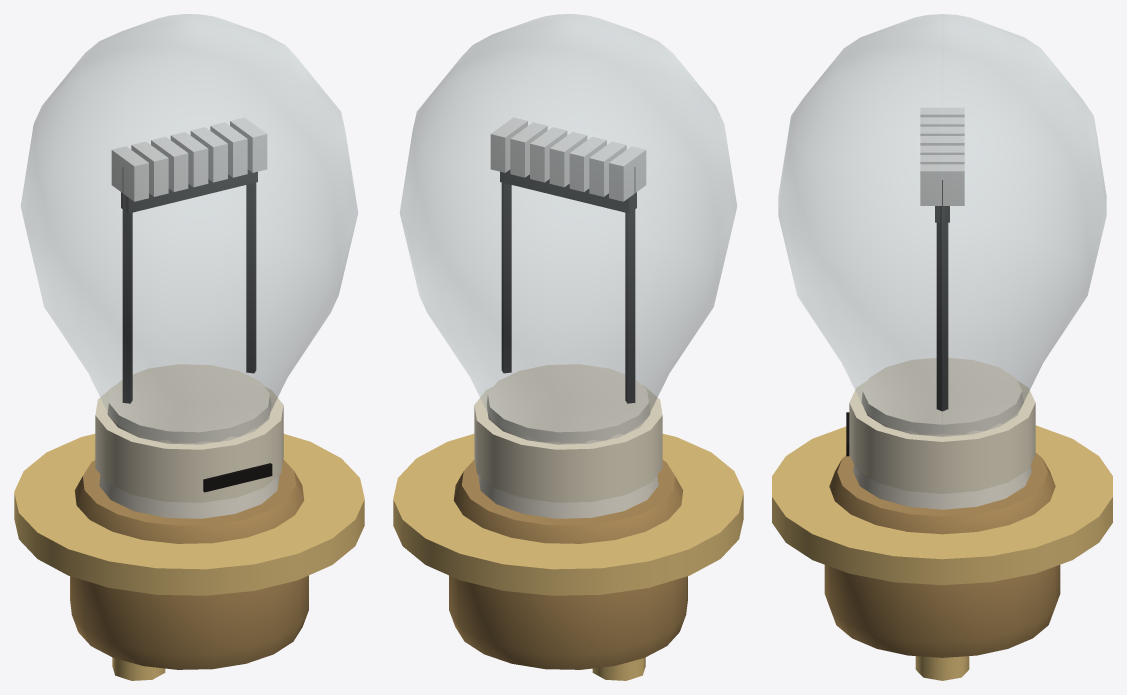
File: projector_lamp.glb
3 renders of one model, left to right at view 1: azimuth 30°, elevation 25°; view 2: azimuth 150°, elevation 25°; view 3: azimuth 270°, elevation 25°, orthographic.
Parts seen in each view (by area): view 1: projector_lamp_body; view 2: projector_lamp_body; view 3: projector_lamp_body.
Boxes of the visible parts, x1,y1,x2,y2 form: projector_lamp_body: (14, 14, 364, 680); projector_lamp_body: (393, 14, 743, 680); projector_lamp_body: (772, 14, 1112, 680).
Bounding box in the file's own units: 0.054 × 0.108 × 0.0535.
